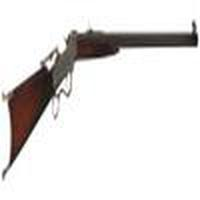gun: (6, 26, 200, 170)
